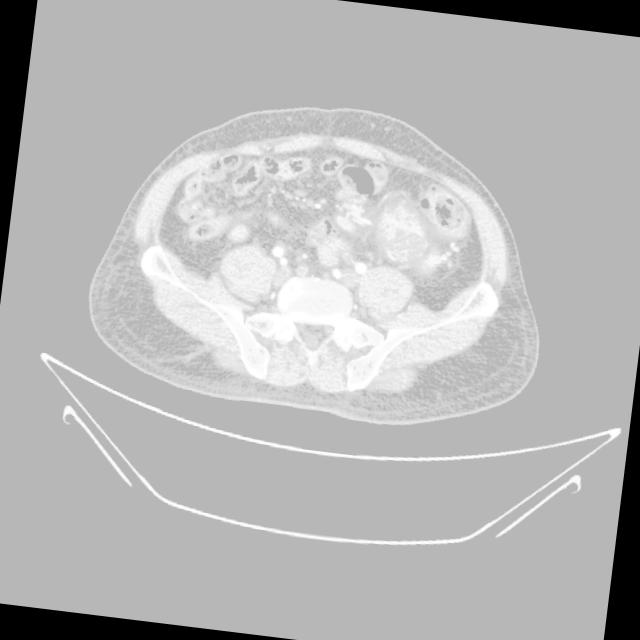TUMOR: (198, 133, 560, 387)
